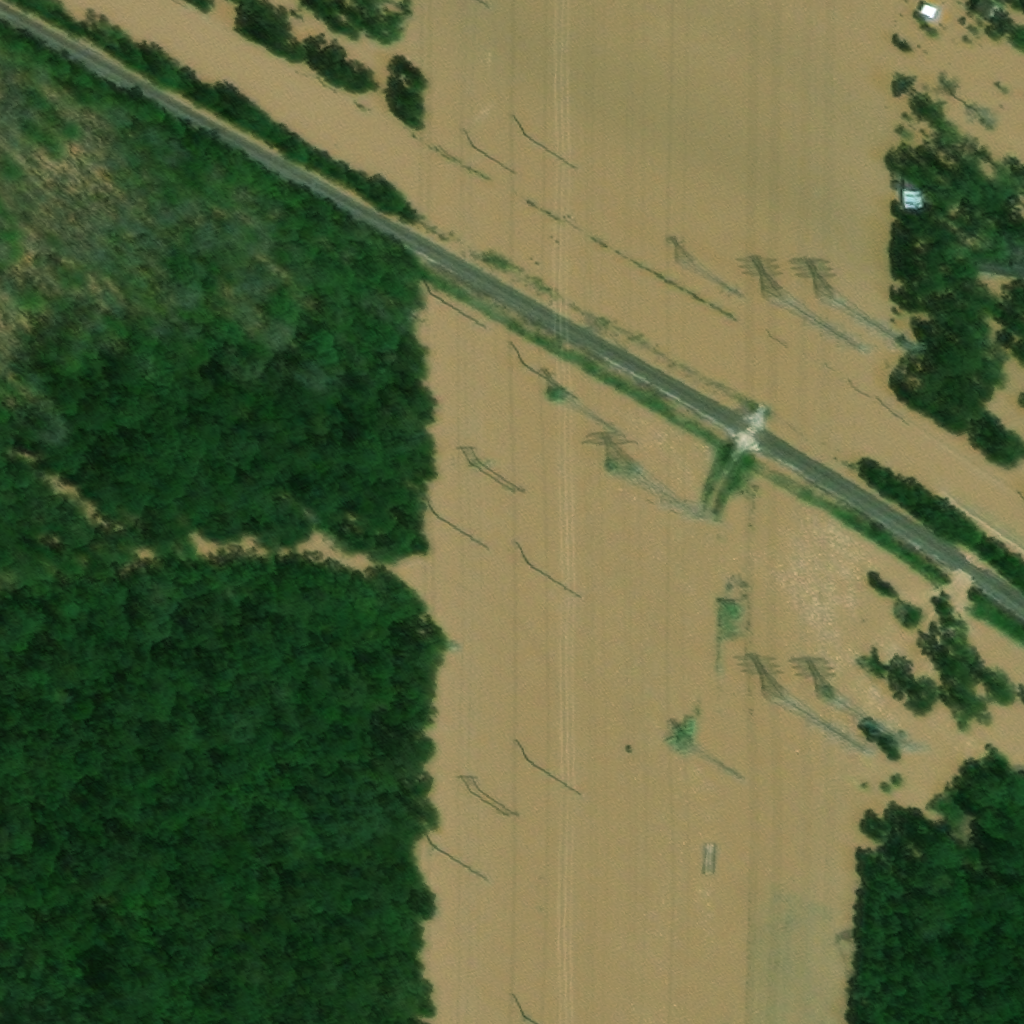major_damage: (972, 228, 1022, 279), (904, 175, 929, 211), (973, 0, 999, 21), (924, 6, 940, 21), (897, 187, 907, 198), (898, 174, 906, 185)
